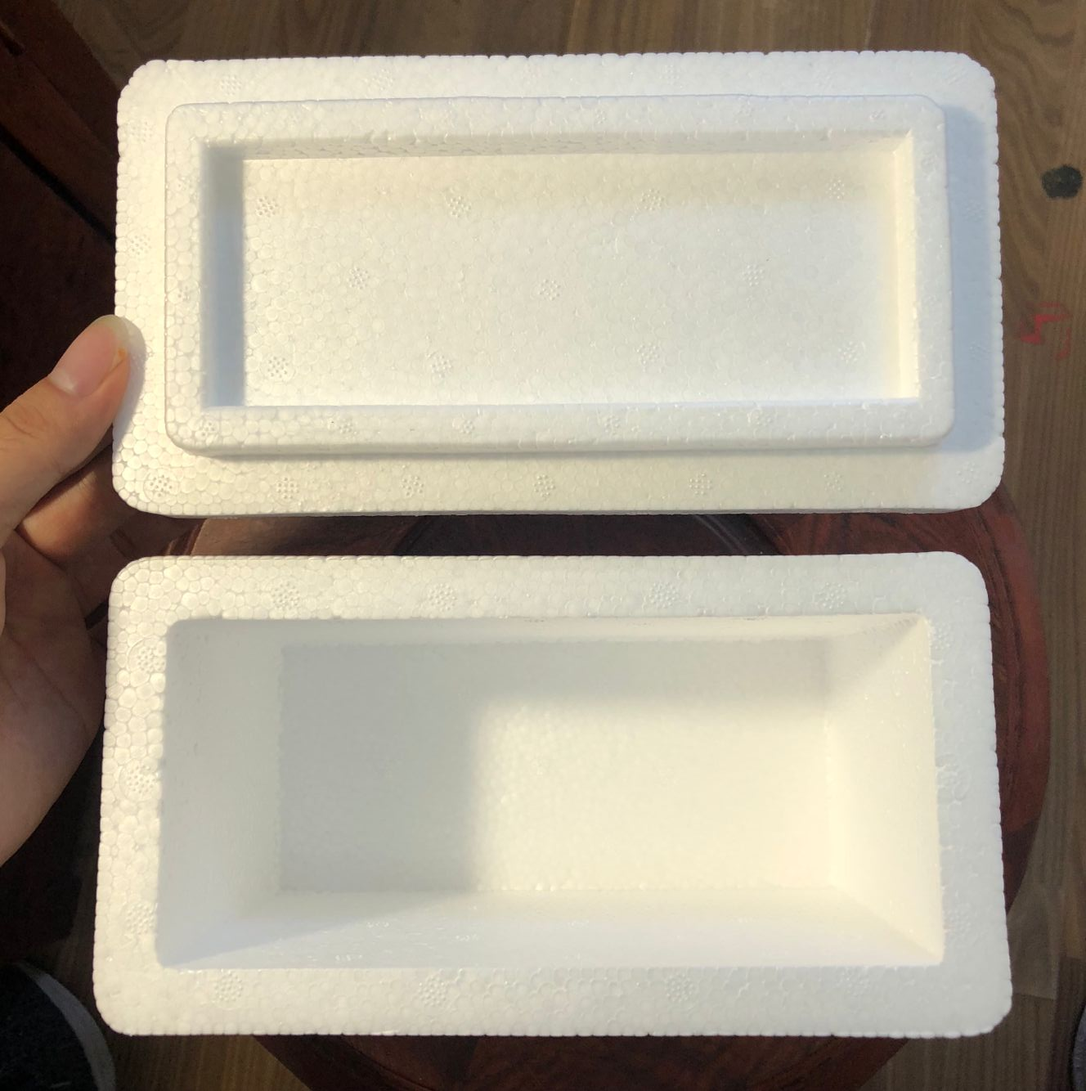Boxes: (94, 554, 1010, 1037)
